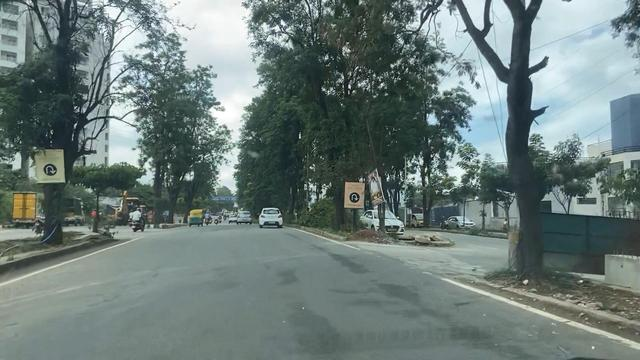LMV: (260, 208, 285, 227), (191, 211, 204, 226), (239, 211, 251, 227)
RoadDamages: (447, 315, 514, 353), (279, 303, 339, 342), (363, 279, 419, 319), (317, 242, 365, 277), (262, 262, 309, 286)
